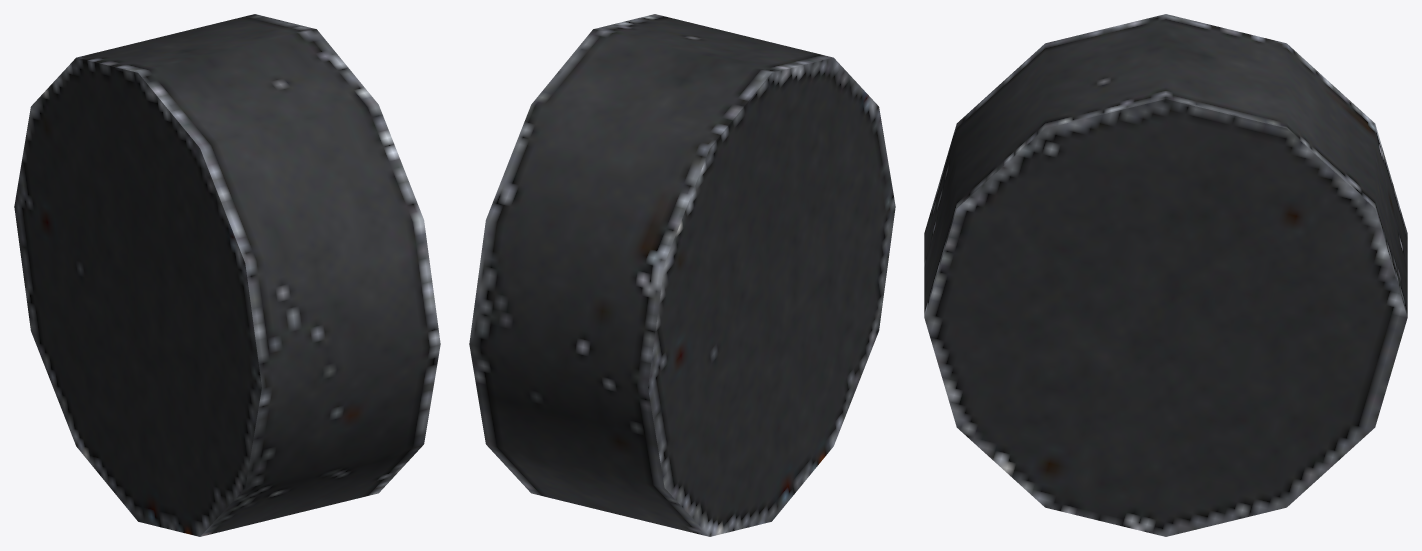
Rendered from pipe_connecter.fbx.
3 renders of one model, left to right at view 1: azimuth 30°, elevation 25°; view 2: azimuth 150°, elevation 25°; view 3: azimuth 270°, elevation 25°, orthographic. The views are drawn at different scales.
Visible parts, largest first — view 1: pipe_connecter; view 2: pipe_connecter; view 3: pipe_connecter.
Boxes of the visible parts, x1,y1,x2,y2 form: pipe_connecter: [14, 14, 440, 536]; pipe_connecter: [469, 14, 895, 536]; pipe_connecter: [924, 14, 1407, 536].
Bounding box in the file's own units: 5 × 12 × 12.
